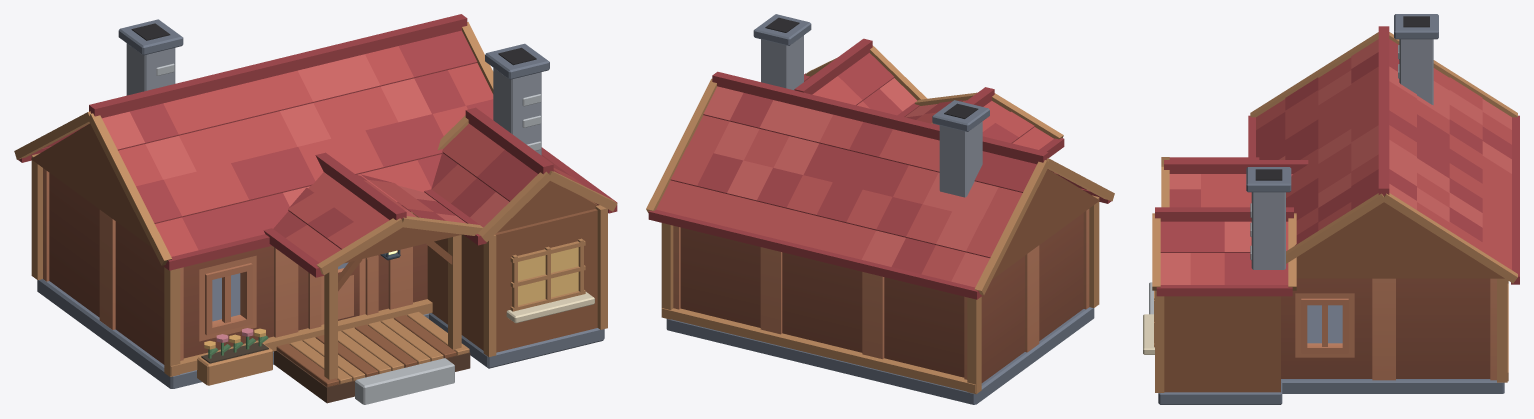
Rendered from farmhouse_1.glb.
3 renders of one model, left to right at view 1: azimuth 30°, elevation 25°; view 2: azimuth 150°, elevation 25°; view 3: azimuth 270°, elevation 25°, orthographic. The views are drawn at different scales.
Parts seen in each view (by area): view 1: farmhouse_1_建筑共用调色板, farmhouse_1_fantasy-town-kit 调色板; view 2: farmhouse_1_建筑共用调色板, farmhouse_1_fantasy-town-kit 调色板; view 3: farmhouse_1_建筑共用调色板, farmhouse_1_fantasy-town-kit 调色板.
Boxes of the visible parts, x1=… form: farmhouse_1_建筑共用调色板: x1=14, y1=14, x2=617, y2=404; farmhouse_1_fantasy-town-kit 调色板: x1=43, y1=168, x2=427, y2=364; farmhouse_1_建筑共用调色板: x1=646, y1=14, x2=1114, y2=404; farmhouse_1_fantasy-town-kit 调色板: x1=673, y1=209, x2=1089, y2=382; farmhouse_1_建筑共用调色板: x1=1143, y1=14, x2=1519, y2=404; farmhouse_1_fantasy-town-kit 调色板: x1=1281, y1=278, x2=1496, y2=380.
Bounding box in the file's own units: 6.99 × 4.66 × 6.38.
Materials: 3 (2 with a texture image).
